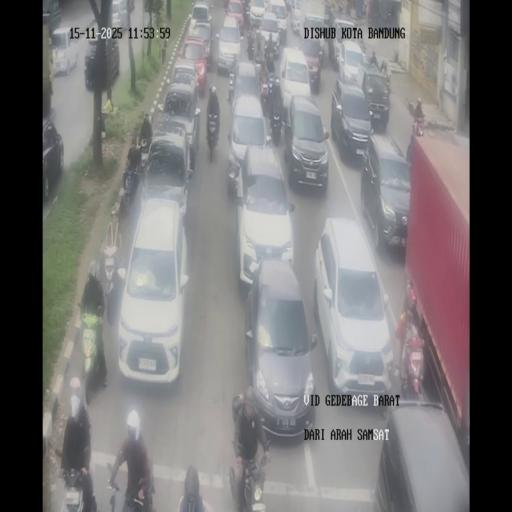car: (315, 218, 394, 402), (117, 196, 189, 385), (244, 257, 316, 435), (362, 133, 411, 252), (226, 88, 270, 198), (141, 124, 192, 217), (331, 80, 372, 161), (277, 45, 313, 123), (84, 23, 121, 91), (42, 114, 64, 200), (217, 15, 243, 76), (168, 57, 200, 105), (50, 26, 79, 77), (186, 18, 213, 70), (338, 40, 367, 88), (231, 60, 261, 104), (259, 10, 282, 58), (302, 14, 326, 56), (42, 0, 62, 36), (114, 0, 136, 30), (249, 0, 266, 27), (290, 0, 303, 33)
motorcycle: (78, 299, 109, 395), (230, 443, 270, 510), (58, 447, 98, 510), (108, 456, 154, 510), (397, 317, 425, 401), (101, 236, 120, 312), (121, 153, 144, 214), (257, 65, 274, 113), (90, 107, 108, 147), (206, 111, 220, 160), (136, 132, 153, 168), (270, 102, 282, 145), (377, 57, 391, 87), (412, 108, 424, 138), (242, 6, 252, 38), (246, 30, 256, 60), (226, 72, 234, 104), (266, 50, 276, 74), (254, 48, 263, 72), (369, 50, 378, 67), (329, 0, 337, 14), (284, 0, 293, 12), (362, 0, 368, 16), (338, 2, 343, 12)
truck: (404, 139, 470, 455), (42, 37, 53, 113)
